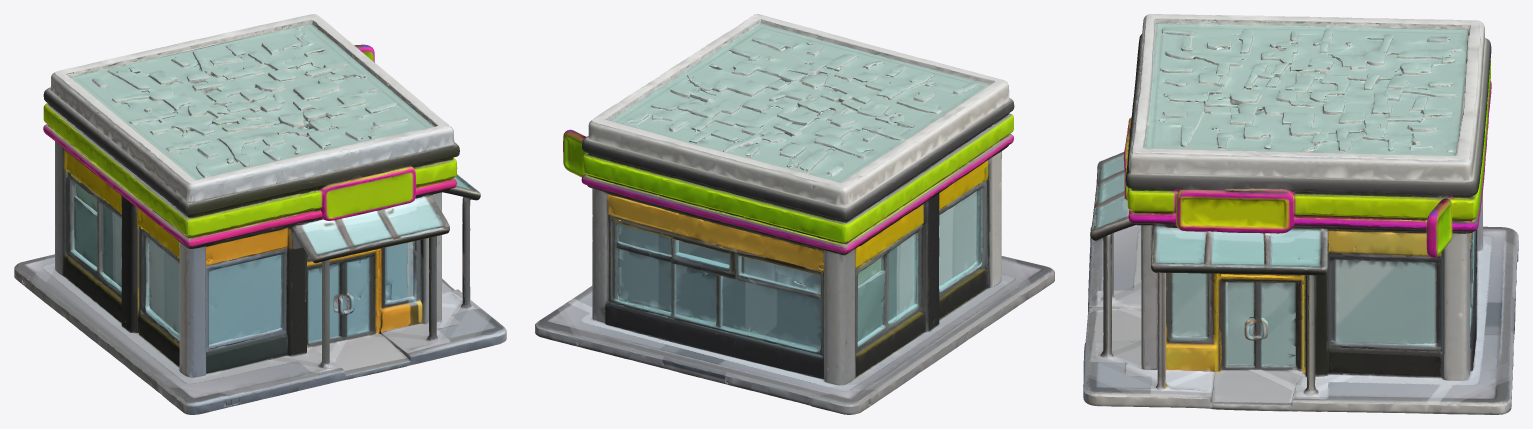
Rendered from u_bld_convenience_store_b.glb.
The picture shows the model from 3 angles, left to right: view 1: azimuth 30°, elevation 25°; view 2: azimuth 150°, elevation 25°; view 3: azimuth 270°, elevation 25°; orthographic projection. The views are drawn at different scales.
Parts seen in each view (by area): view 1: geometry_0; view 2: geometry_0; view 3: geometry_0.
Boxes of the visible parts, x1,y1,x2,y2 form: geometry_0: (14,14,506,414); geometry_0: (535,14,1054,414); geometry_0: (1083,14,1518,414).
Bounding box in the file's own units: 0.3 × 0.1775 × 0.2994.
1 material, 1 textured.
